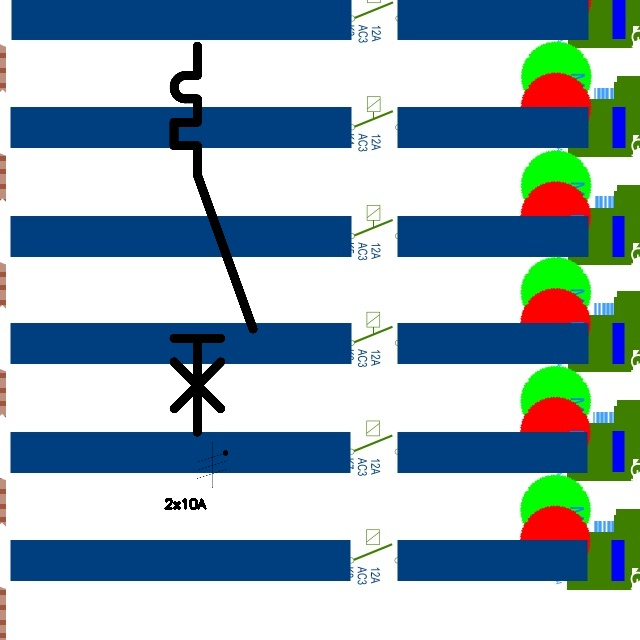interruptor_termomagnetico: (164, 36, 263, 442)
